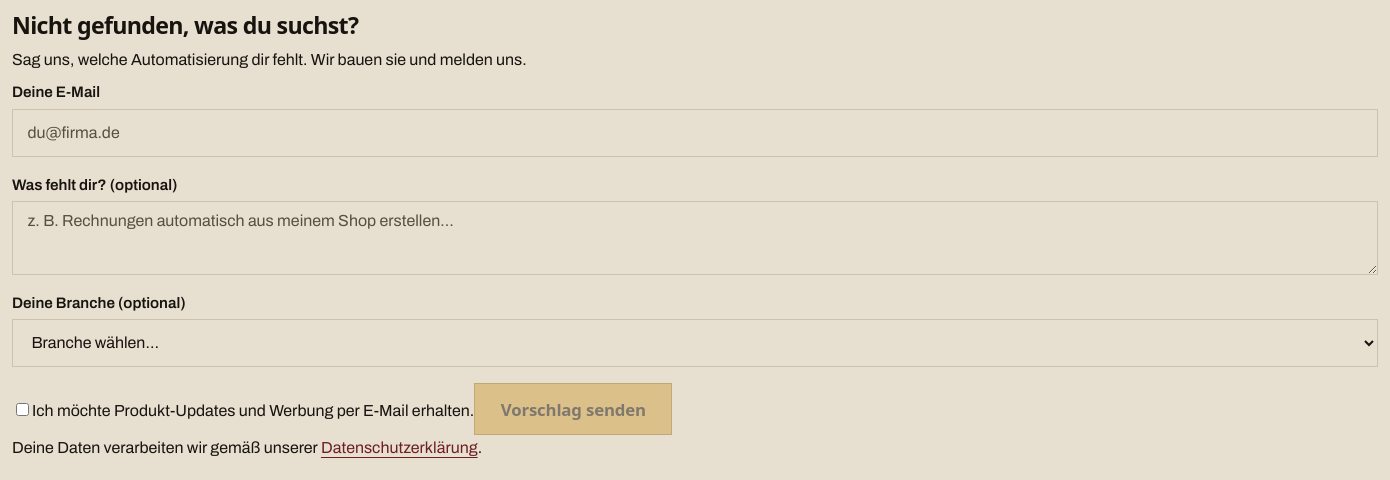
Test case: CatalogRequestSection › disables submit until the marketing consent is ticked (DSGVO active opt-in)
This screenshot has width=1390, height=480.
Expected: the button "Vorschlag senden" is disabled, [474,383,672,435]
Click the checkbox labelled "Ich möchte Produkt-Updates und Werbung per E-Mail erhalten.".
click(22, 409)  # box [16,403,29,416]
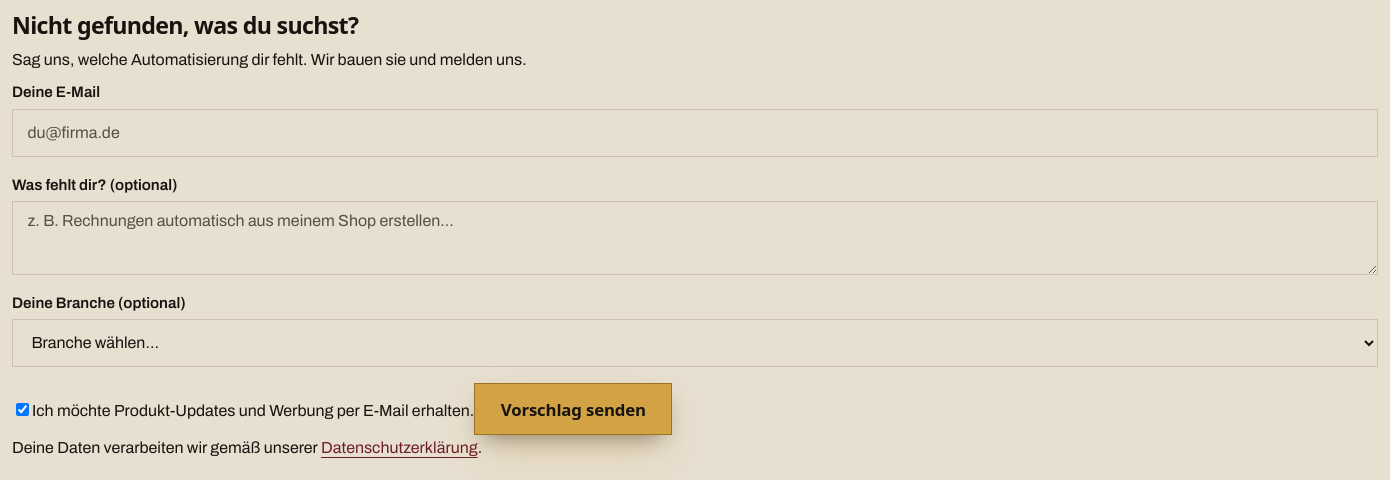
Result: the button "Vorschlag senden" is enabled at [474,383,672,435]
